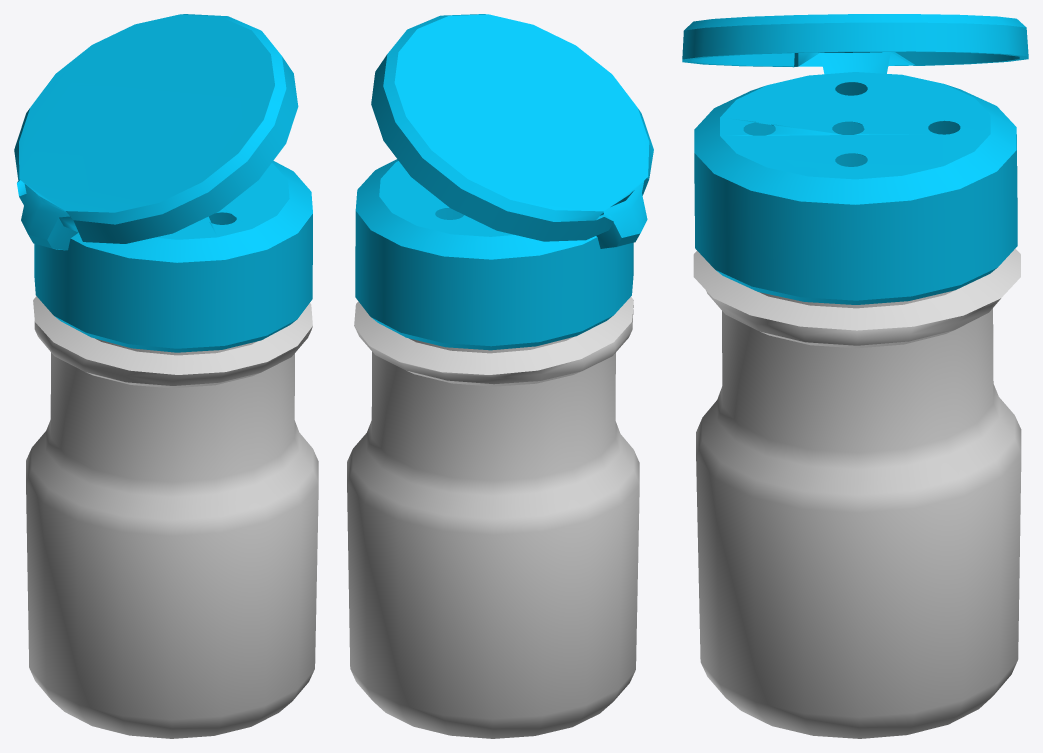
Rendered from BEKAS LADA_05.FBX.
3 renders of one model, left to right at view 1: azimuth 30°, elevation 25°; view 2: azimuth 150°, elevation 25°; view 3: azimuth 270°, elevation 25°, orthographic. The views are drawn at different scales.
Visible parts, largest first — view 1: Cylinder001; view 2: Cylinder001; view 3: Cylinder001.
Part boxes in pixels (<box>): Cylinder001: <box>14,14,318,738</box>; Cylinder001: <box>347,14,653,738</box>; Cylinder001: <box>682,14,1028,738</box>.
Size of the model in its own units: 38.8 by 86.35 by 38.17.
